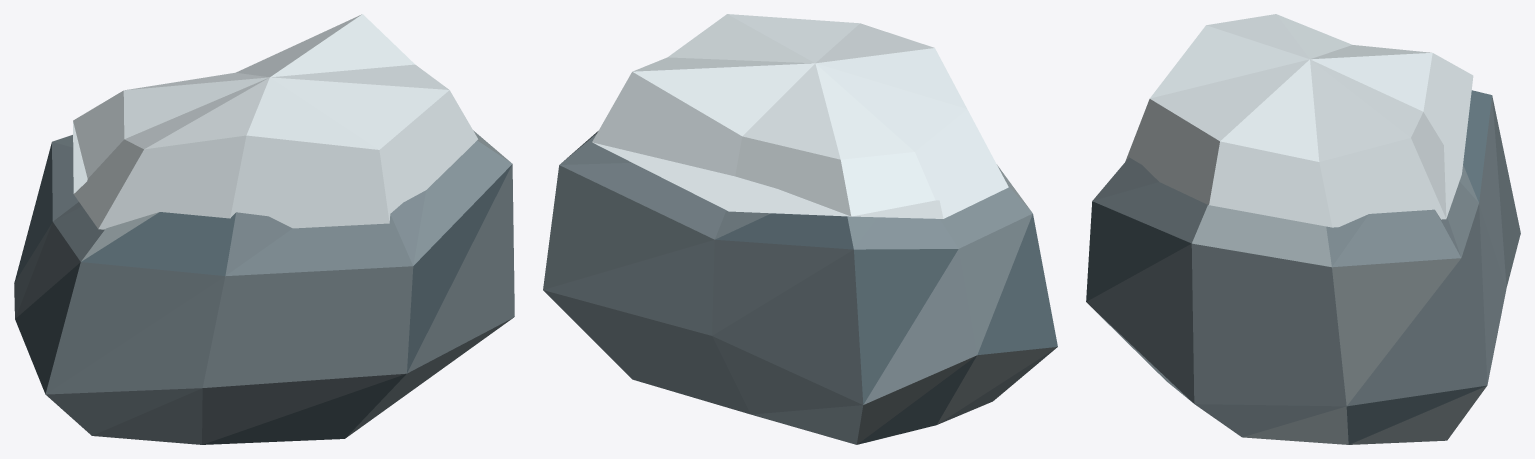
File: ROCK_03_LargeBoulder.glb
The picture shows the model from 3 angles, left to right: view 1: azimuth 30°, elevation 25°; view 2: azimuth 150°, elevation 25°; view 3: azimuth 270°, elevation 25°; orthographic projection. The views are drawn at different scales.
Visible parts, largest first — view 1: ROCK_03_LargeBoulder; view 2: ROCK_03_LargeBoulder; view 3: ROCK_03_LargeBoulder.
Boxes of the visible parts, <box> form: ROCK_03_LargeBoulder: <box>14,14,514,444</box>; ROCK_03_LargeBoulder: <box>543,14,1057,444</box>; ROCK_03_LargeBoulder: <box>1086,14,1520,444</box>.
Bounding box in the file's own units: 3.7 × 2.45 × 3.03.
